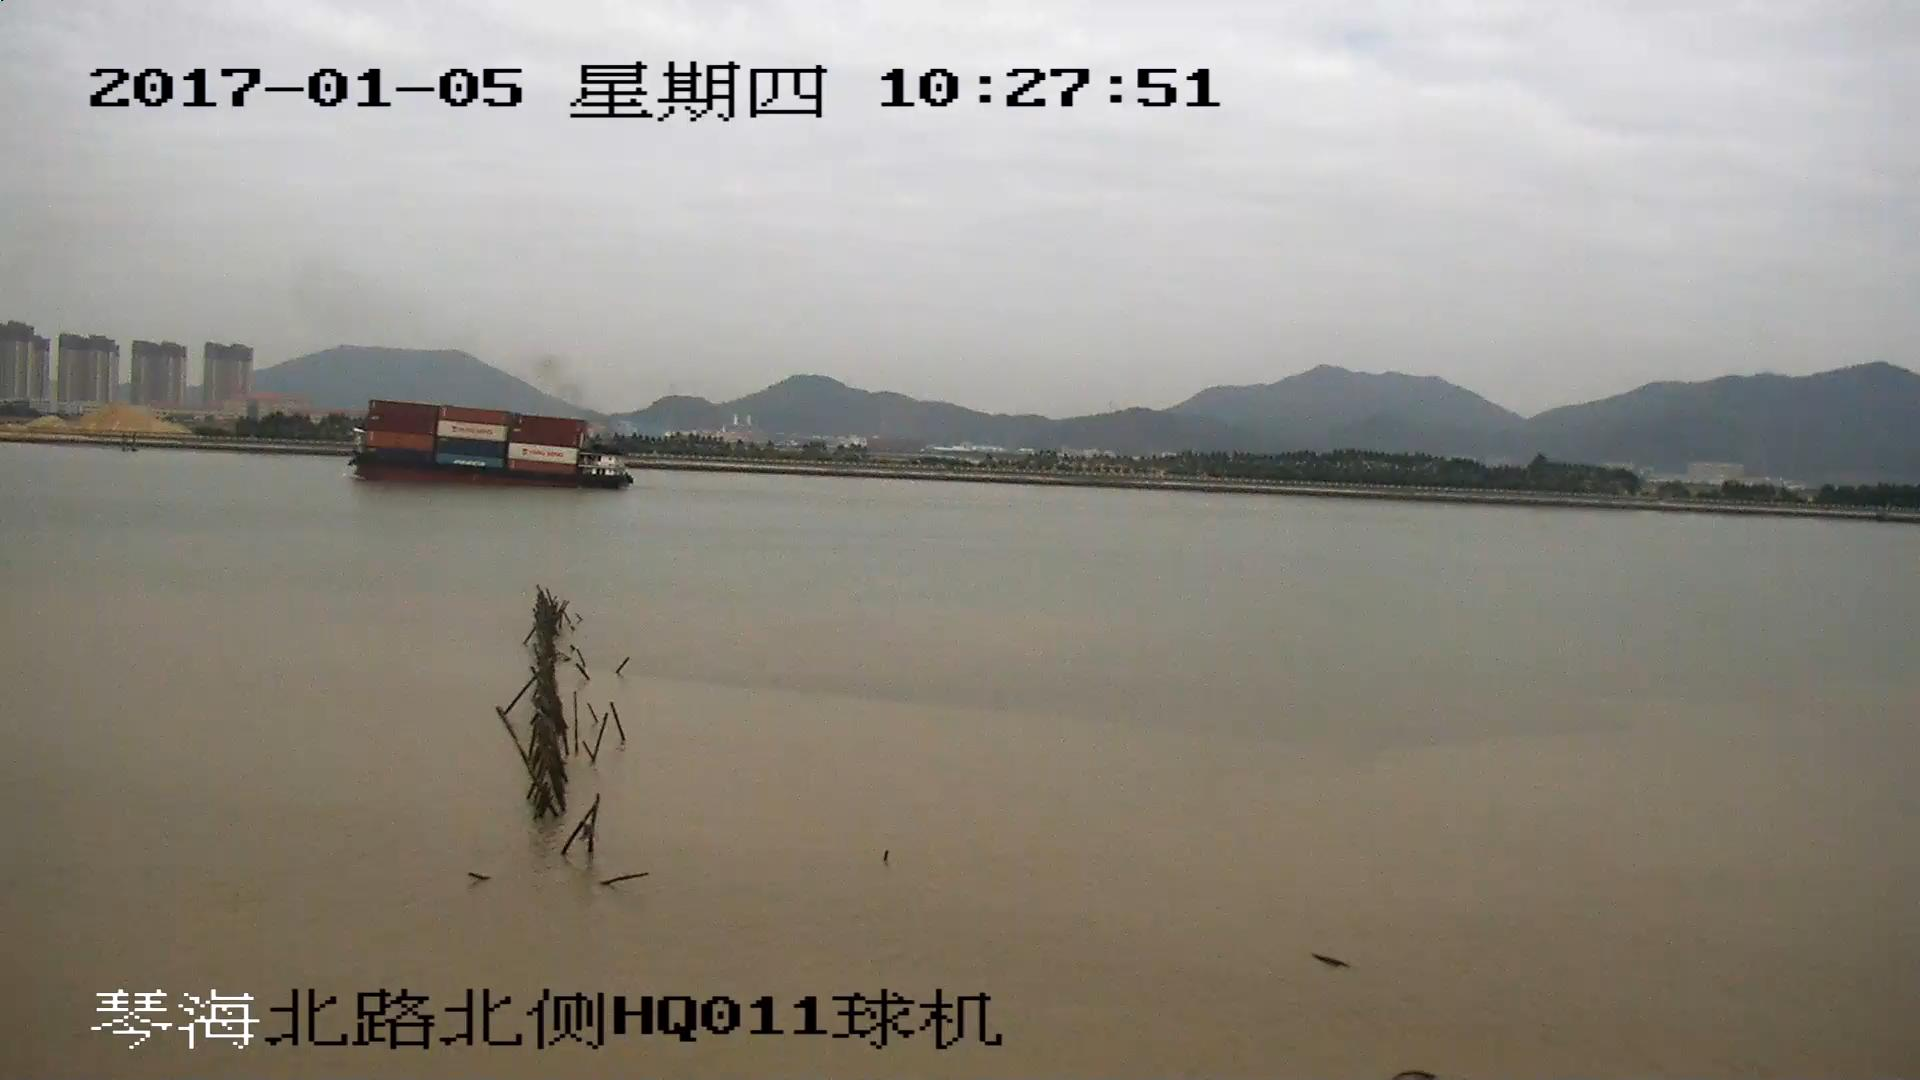container ship: (345, 402, 627, 487)
